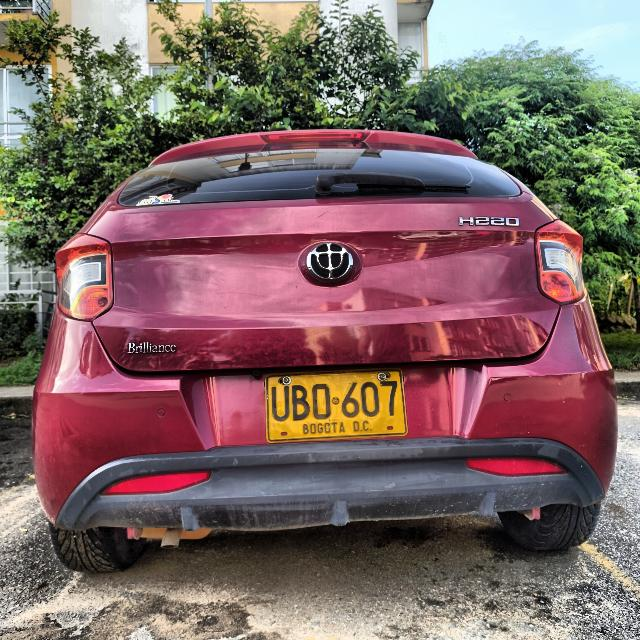plate: (267, 370, 406, 441)
